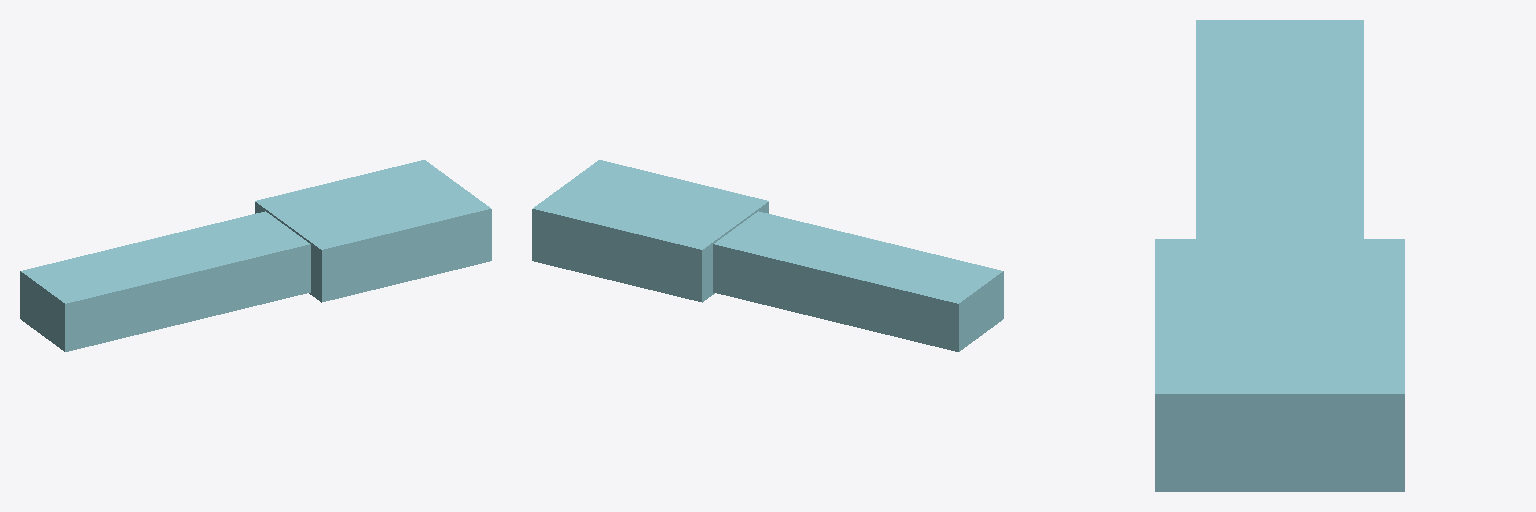
robot.urdf — cuboid_brush_v10005:
<?xml version="1.0"?>
<robot name="cuboid_brush_v10005">

  <link name="cuboid_brush_v10005">
    <!-- Handle -->
    <visual>
      <origin xyz="0 0 0" rpy="0 0 0"/>
      <geometry>
        <box size="0.12222370104894212 0.03877997042906825 0.023050384015053264"/>
      </geometry>
      <material name="material">
        <color rgba="0.639 0.847 0.882 1.0"/>
      </material>
    </visual>
    <collision>
      <origin xyz="0 0 0" rpy="0 0 0"/>
      <geometry>
        <box size="0.12222370104894212 0.03877997042906825 0.023050384015053264"/>
      </geometry>
    </collision>

    <!-- Head -->
    <visual>
      <origin xyz="0.1034545800064727 0 0" rpy="0 0 0"/>
      <geometry>
        <box size="0.08468545896400329 0.05774844518207313 0.025048725810991747"/>
      </geometry>
      <material name="material">
        <color rgba="0.639 0.847 0.882 1.0"/>
      </material>
    </visual>
    <collision>
      <origin xyz="0.1034545800064727 0 0" rpy="0 0 0"/>
      <geometry>
        <box size="0.08468545896400329 0.05774844518207313 0.025048725810991747"/>
      </geometry>
    </collision>

    <inertial>
      <density value="400.0"/>
    </inertial>
  </link>

</robot>

--- Render facts (derived) ---
The picture shows the robot from 3 angles, left to right: view 1: azimuth 30°, elevation 25°; view 2: azimuth 150°, elevation 25°; view 3: azimuth 270°, elevation 25°; orthographic projection.
Robot: cuboid_brush_v10005 — 1 links, 0 joints (none); root link cuboid_brush_v10005; default pose: every joint at zero.
Visible links, largest first — view 1: cuboid_brush_v10005; view 2: cuboid_brush_v10005; view 3: cuboid_brush_v10005.
Boxes of the visible links, x1,y1,x2,y2 form: cuboid_brush_v10005: [20, 160, 491, 351]; cuboid_brush_v10005: [532, 160, 1003, 351]; cuboid_brush_v10005: [1155, 20, 1404, 491].
Size in the robot's own frame: 0.2069 by 0.0577 by 0.025 metres.
Geometry: primitives only (box / cylinder / sphere), no mesh files.
